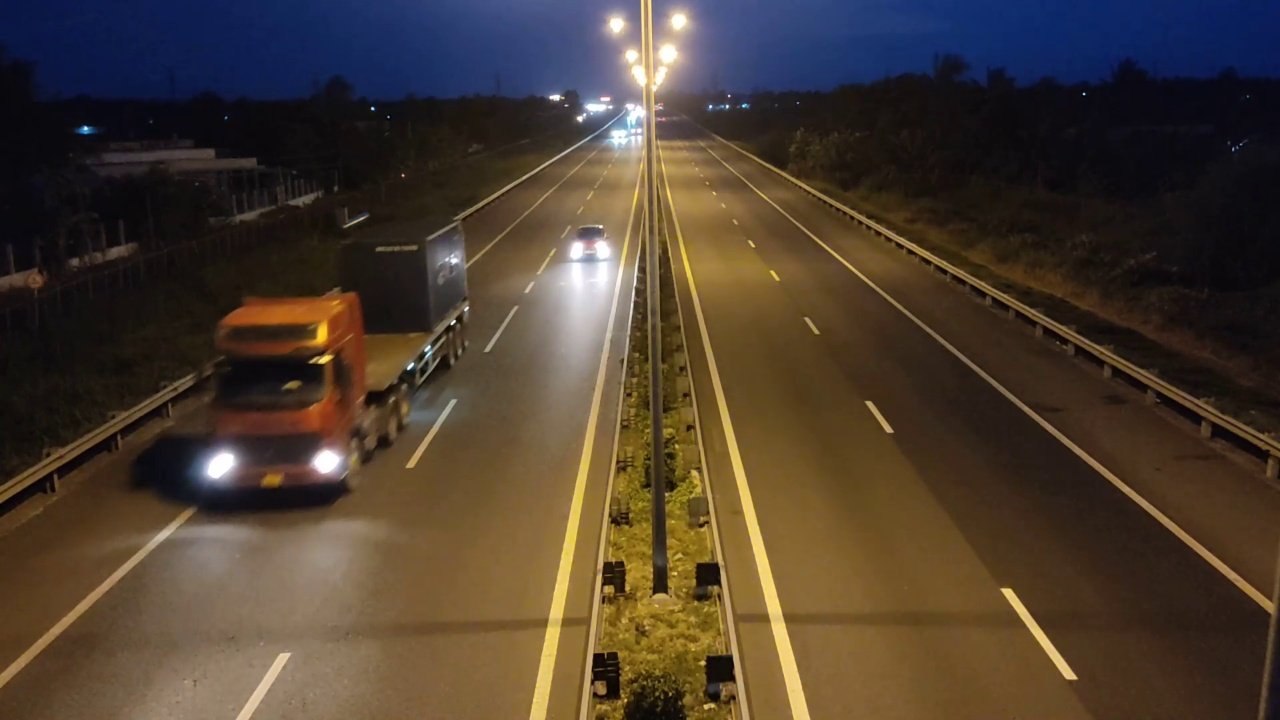car: (570, 223, 609, 261)
truck: (205, 209, 474, 508)
